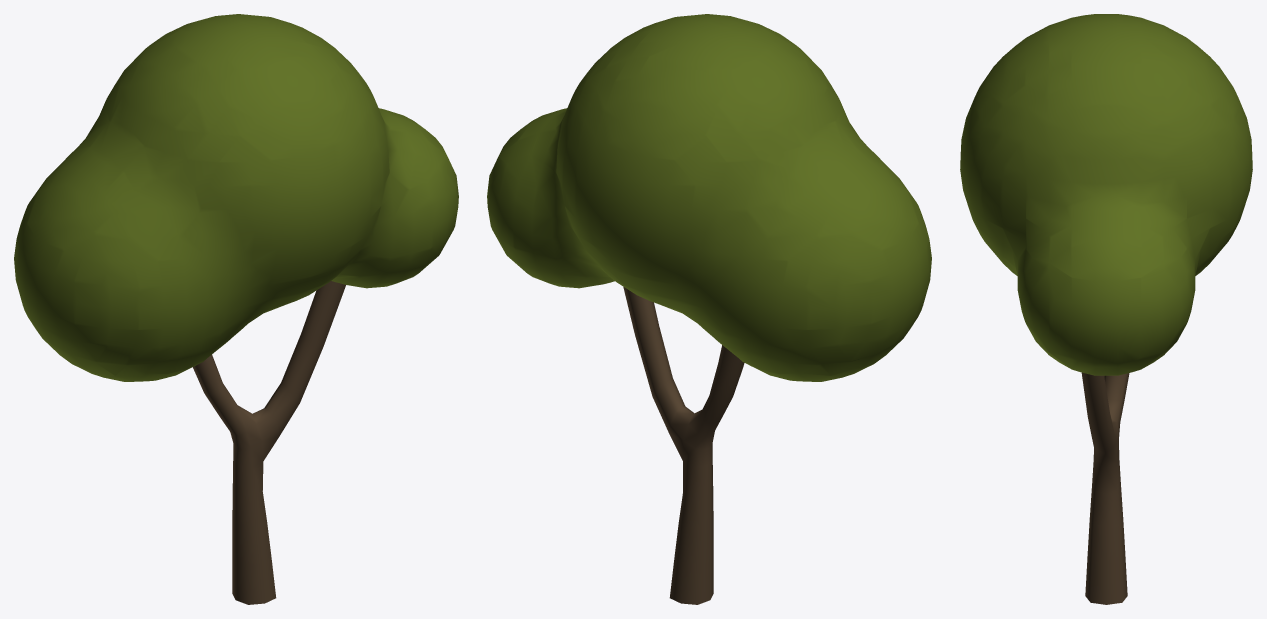
File: tree.glb
3 renders of one model, left to right at view 1: azimuth 30°, elevation 25°; view 2: azimuth 150°, elevation 25°; view 3: azimuth 270°, elevation 25°, orthographic.
Parts seen in each view (by area): view 1: tree; view 2: tree; view 3: tree.
Boxes of the visible parts, x1,y1,x2,y2 form: tree: [14, 14, 458, 604]; tree: [487, 14, 931, 604]; tree: [960, 14, 1252, 604].
Bounding box in the file's own units: 0.7633 × 1 × 0.4723.
